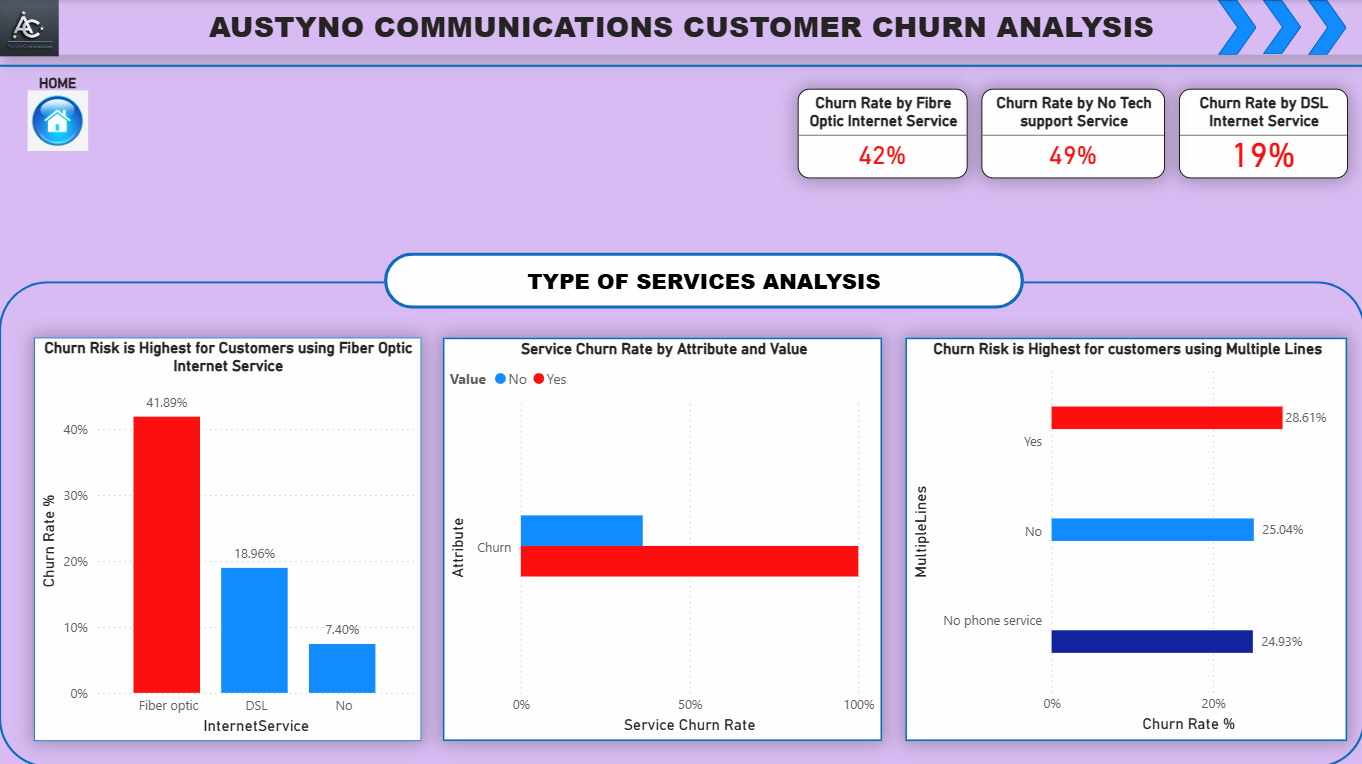

Layout of this report page (visuals, bound fields, positions):
{"tool":"powerbi","page":{"name":"Types of Service Analysis","canvas":[1280,720],"ordinal":3},"visuals":[{"type":"shape","box":[0,263.7,1280.9,455.9],"z":0},{"type":"shape","box":[360.9,236.7,600,52.7],"z":1000,"group":"g2"},{"type":"columnChart","title":"Churn Risk is Highest for Customers using Fiber Optic Internet Service","fields":{"Category":["FactCustomerChurn.InternetService"],"Y":["_Measures.Churn Rate %"]},"box":[32.5,316.2,362.8,378.4],"z":2000},{"type":"advanceCardE03760C5AB684758B56AA29F9E6C257B","title":"Churn Rate by Fibre Optic Internet Service","fields":{"mainMeasure":["_Measures.Churn Rate %"]},"box":[748.8,83.2,159.4,84.4],"z":3000},{"type":"advanceCardE03760C5AB684758B56AA29F9E6C257B","title":"Churn Rate by DSL Internet Service","fields":{"mainMeasure":["_Measures.Churn Rate %"]},"box":[1106.3,83.2,158.2,84.4],"z":4000},{"type":"advanceCardE03760C5AB684758B56AA29F9E6C257B","title":"Churn Rate by No Tech support Service","fields":{"mainMeasure":["_Measures.Churn Rate %"]},"box":[921.1,83.2,172.3,84.4],"z":5000},{"type":"clusteredBarChart","title":"Service Churn Rate by Attribute and Value","fields":{"Series":["Service_Analysis.Value"],"Y":["CountNonNull(Service_Analysis.Attribute)"]},"box":[416.5,316.2,412.2,378.4],"z":6000},{"type":"textbox","box":[0,0,1279.7,51.3],"z":7000,"group":"g1"},{"type":"clusteredBarChart","title":"Churn Risk is Highest for customers using Multiple Lines","fields":{"Y":["_Measures.Churn Rate %"],"Category":["FactCustomerChurn.MultipleLines"],"Series":["FactCustomerChurn.MultipleLines"]},"box":[849.3,316.9,414.2,378.1],"z":7000},{"type":"group","id":"g1","title":"Group 2","box":[0,0,1280.5,83.3],"z":8000},{"type":"image","box":[0,0,56.3,52.4],"z":9000,"group":"g1"},{"type":"image","title":"HOME","box":[16.6,70.1,77.2,71.2],"z":9000},{"type":"textbox","box":[545.3,262.8,230.2,32.6],"z":9001,"group":"g2"},{"type":"group","id":"g2","title":"Group 1","box":[360.9,236.7,600,58.6],"z":9002},{"type":"shape","box":[1142.5,0,36.4,51.6],"z":10000,"group":"g1"},{"type":"shape","box":[1227.1,0,36.4,51.6],"z":11000,"group":"g1"},{"type":"shape","box":[1184.8,0,36.1,50.6],"z":12000,"group":"g1"},{"type":"shape","box":[0,39.7,1280.2,43.6],"z":13000,"group":"g1"}]}

Visuals, with their boxes in screenshot pixels (x1, y1, x2, y2), scaled from the page's 1280x720 canvas onto the 1362x764 screenshot:
shape: 0:280:1361:763
shape: 384:251:1022:307
"Churn Risk is Highest for Customers using Fiber Optic Internet Service" columnChart: 35:336:421:737
"Churn Rate by Fibre Optic Internet Service" advanceCardE03760C5AB684758B56AA29F9E6C257B: 797:88:966:178
"Churn Rate by DSL Internet Service" advanceCardE03760C5AB684758B56AA29F9E6C257B: 1177:88:1346:178
"Churn Rate by No Tech support Service" advanceCardE03760C5AB684758B56AA29F9E6C257B: 980:88:1163:178
"Service Churn Rate by Attribute and Value" clusteredBarChart: 443:336:882:737
textbox: 0:0:1361:54
"Churn Risk is Highest for customers using Multiple Lines" clusteredBarChart: 904:336:1344:737
"Group 2" group: 0:0:1361:88
image: 0:0:60:56
"HOME" image: 18:74:100:150
textbox: 580:279:825:313
"Group 1" group: 384:251:1022:313
shape: 1216:0:1254:55
shape: 1306:0:1344:55
shape: 1261:0:1299:54
shape: 0:42:1361:88
